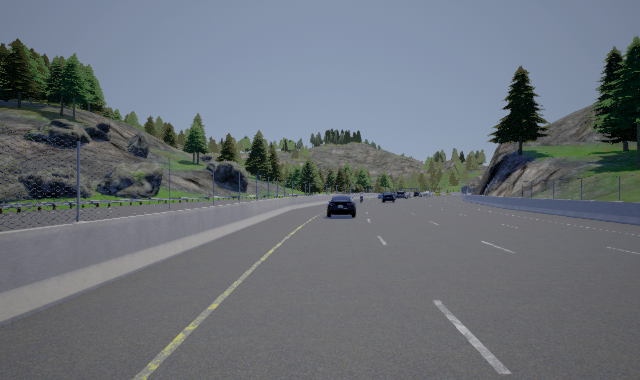bike: (358, 190, 364, 204)
vehicle: (327, 195, 358, 218), (377, 192, 397, 202), (397, 190, 412, 200)
